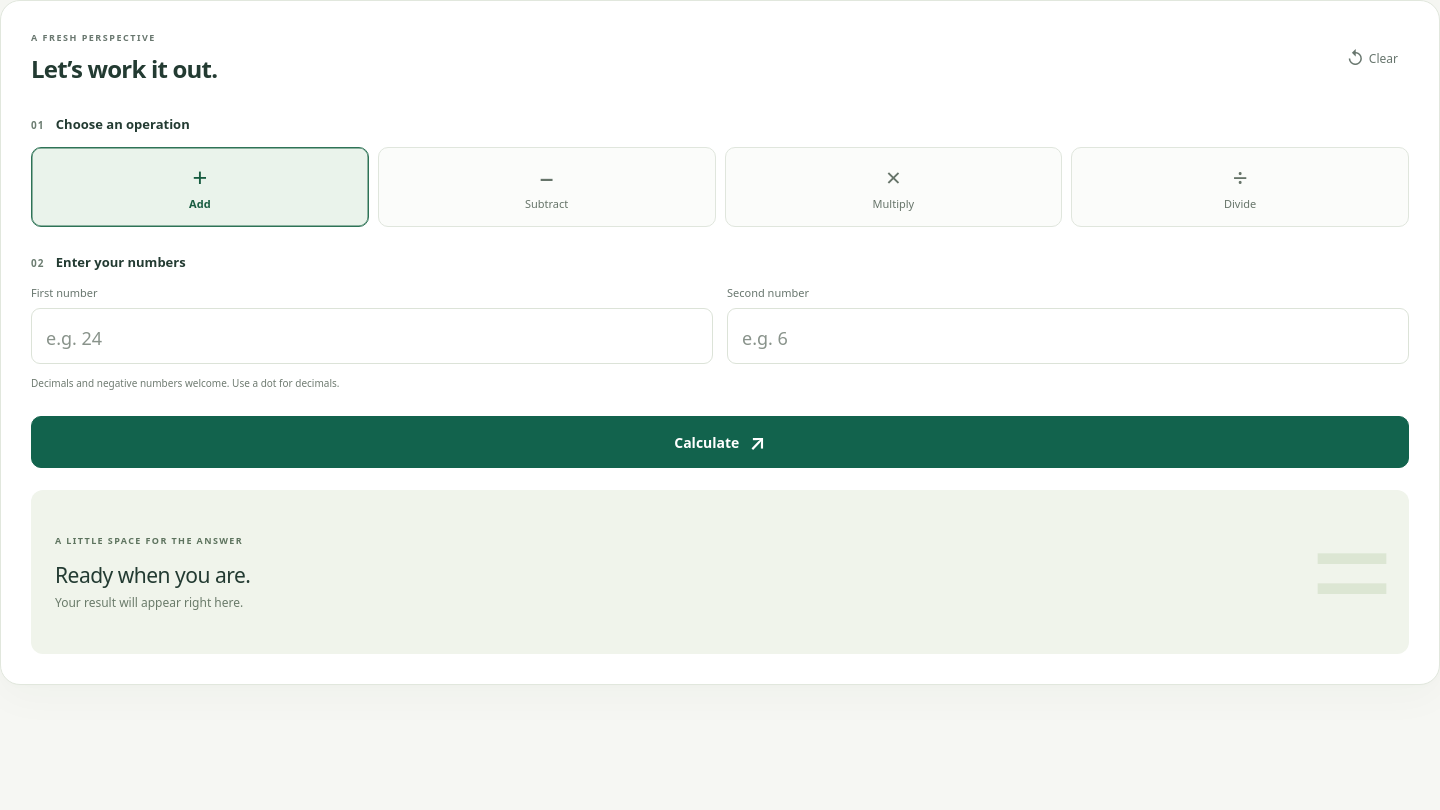
Test: calculator experience › shows loading, locks the form, and prevents duplicate submissions
Step 1. Type "10" into the field labelled "First number" → point(372, 336), box [31, 308, 713, 364]
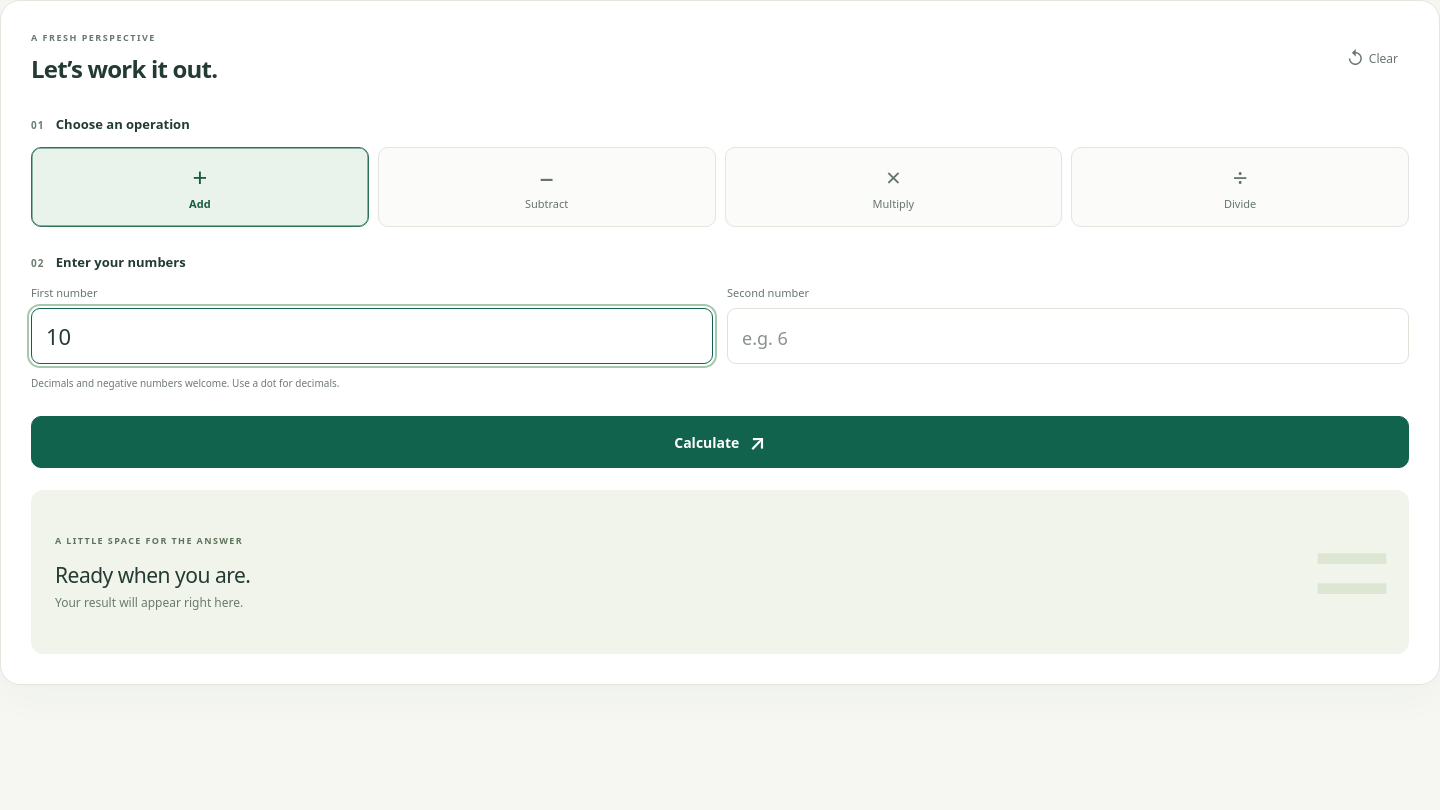
Step 2. Type "2" into the field labelled "Second number" → point(1068, 336), box [727, 308, 1409, 364]
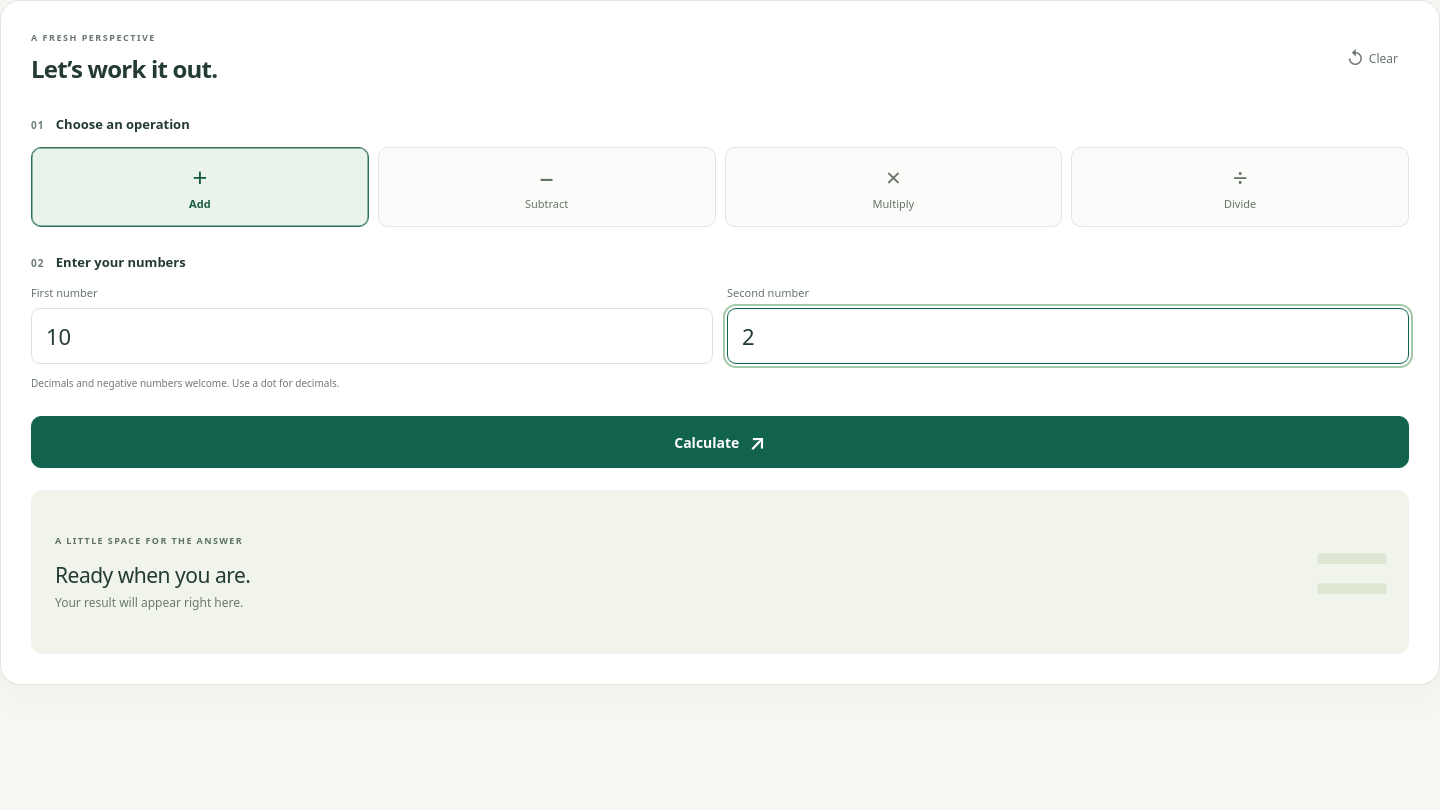
Step 3. Click the button "Calculate ↗" → point(720, 442), box [31, 416, 1409, 468]
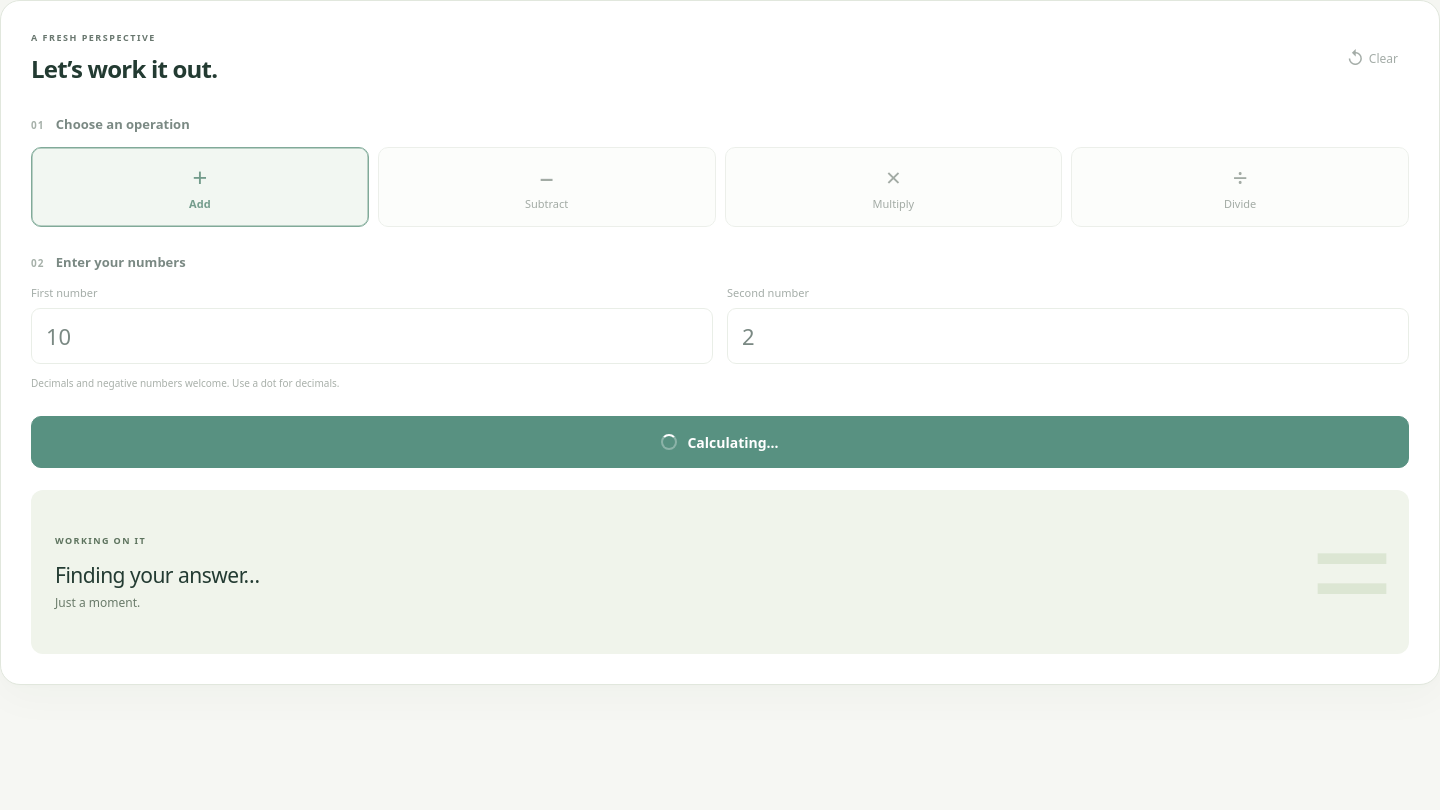
Expected: the button "Calculating…" is disabled, [31, 416, 1409, 468]
Expected: the button "↺ Clear" is disabled, [1336, 36, 1409, 80]
Expected: the message shows "Finding your answer…", [55, 560, 260, 588]
Step 4. Submit the form named "Calculating…", box [31, 115, 1409, 468]
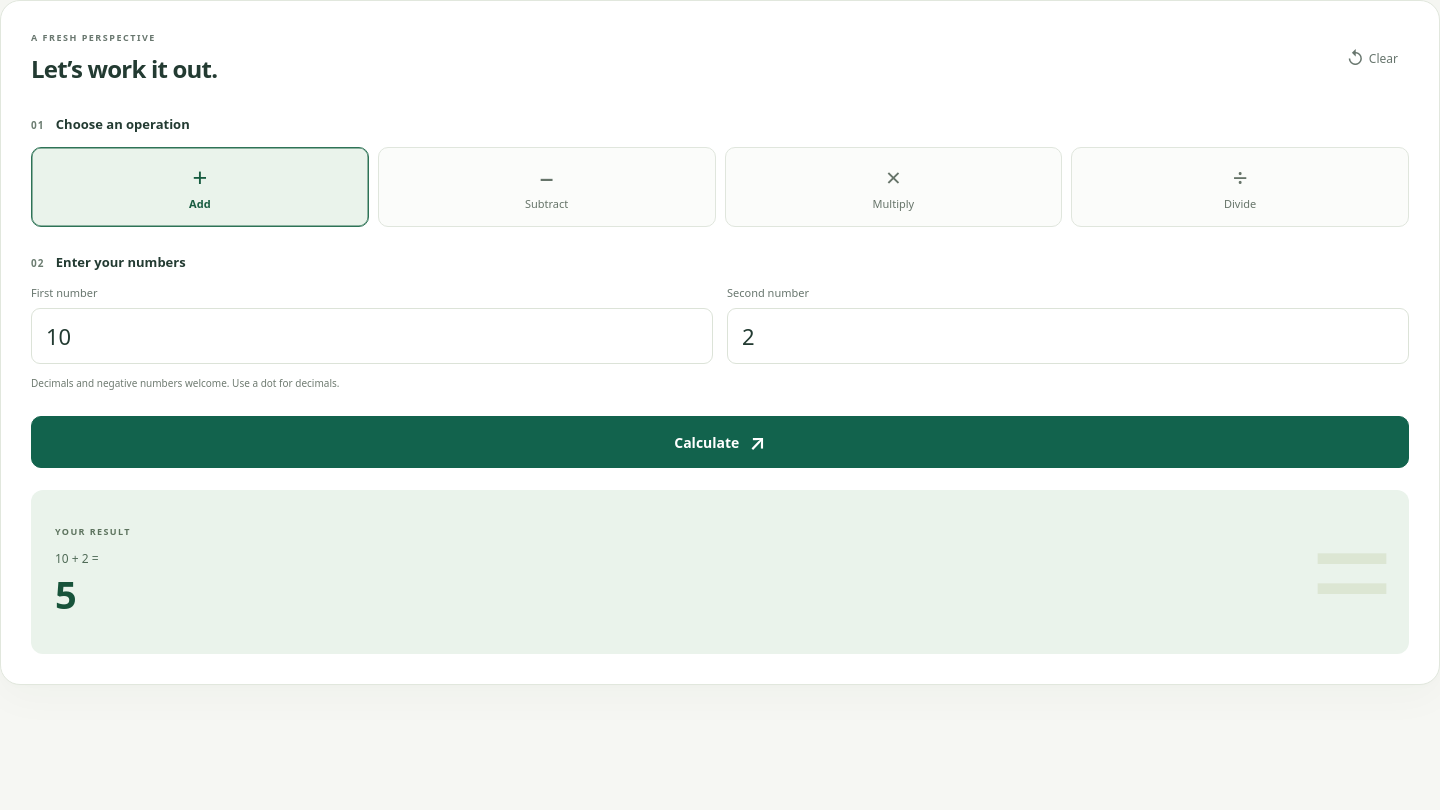
Expected: the button "Calculate ↗" is enabled, [31, 416, 1409, 468]
